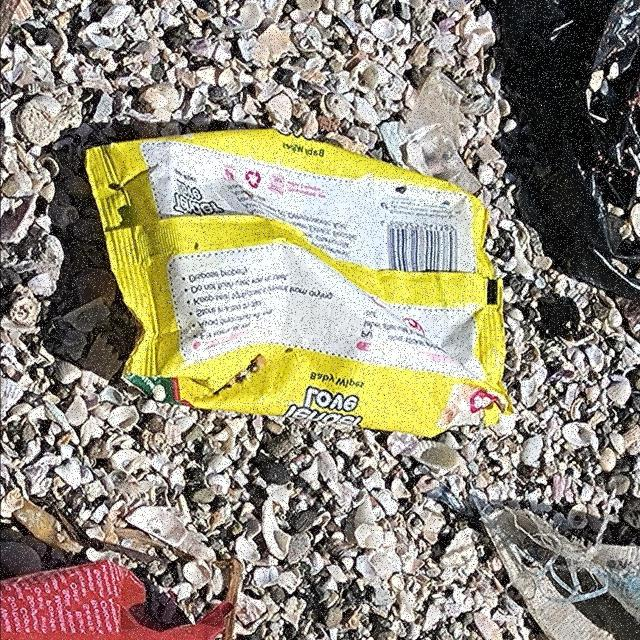plastic_waste: (84, 129, 506, 442)
